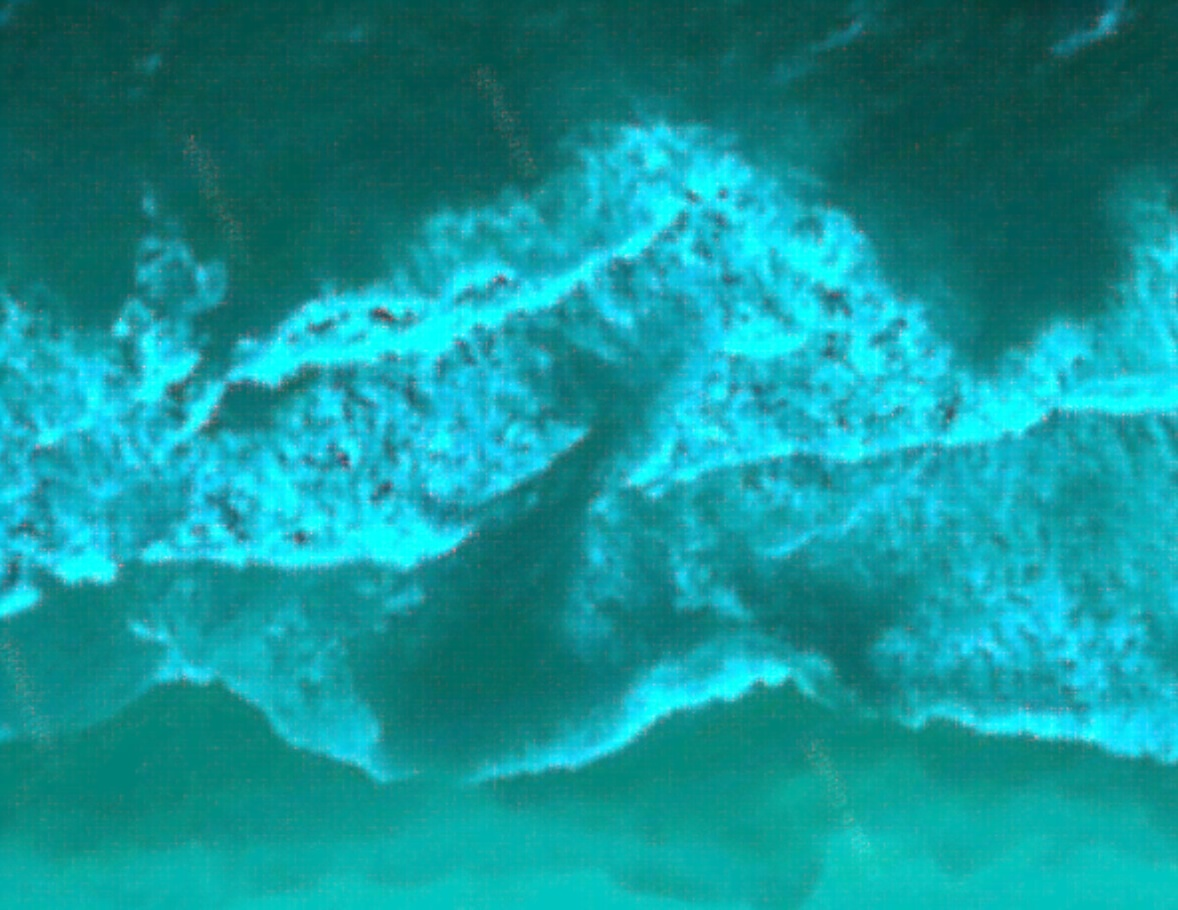rip_current: (391, 147, 693, 709)
